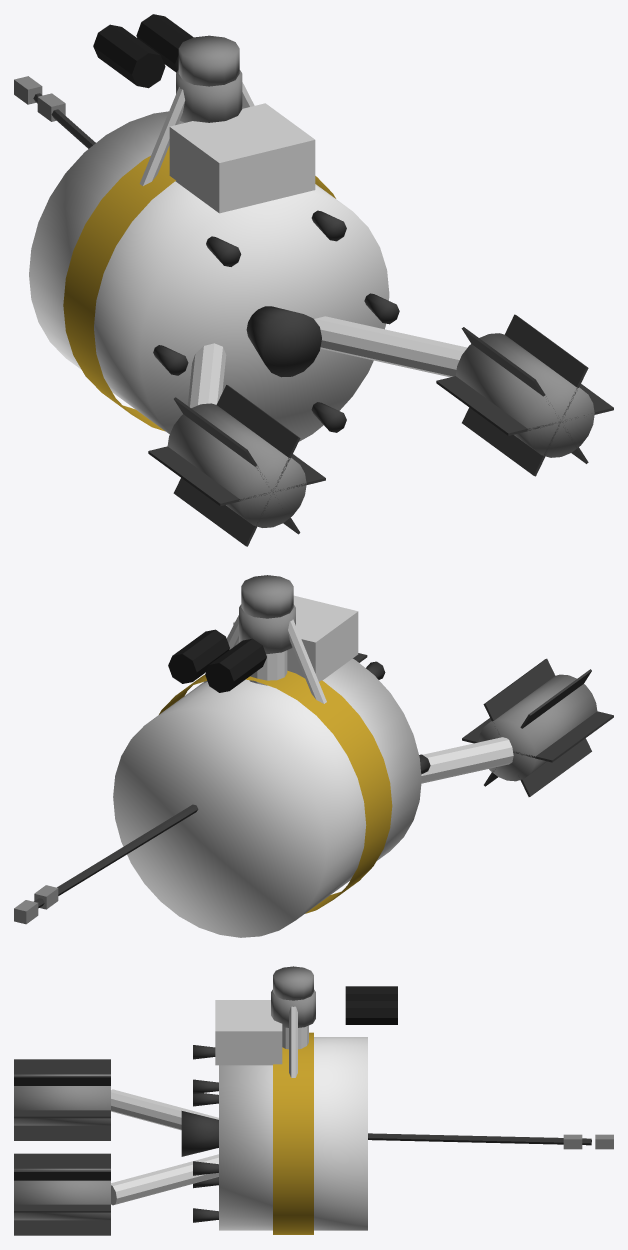
The model's file is Probe_RTG_Body.glb.
The picture shows the model from 3 angles, top to bottom: view 1: azimuth 30°, elevation 25°; view 2: azimuth 150°, elevation 25°; view 3: azimuth 270°, elevation 25°; orthographic projection. The views are drawn at different scales.
Visible parts, largest first — view 1: Probe_Bus, Probe_Housing, Probe_RTG_R, Probe_RTG_L, Probe_Bus_MLI, Probe_Boom_R, Probe_RTG_Fin_R2, Probe_RTG_Fin_L2, Probe_Thruster, Probe_Mast_Hub, Probe_Cam_Narrow, Probe_Scan_Platform (+7 smaller); view 2: Probe_Bus, Probe_Bus_MLI, Probe_RTG_L, Probe_Housing, Probe_RTG_Fin_L2, Probe_Boom_L, Probe_Mast_Hub, Probe_Cam_Narrow, Probe_Cam_Wide, Probe_Scan_Platform, Probe_RTG_Fin_L1, Probe_Mag_Boom (+3 smaller); view 3: Probe_Bus, Probe_Bus_MLI, Probe_Housing, Probe_RTG_R, Probe_RTG_L, Probe_RTG_Fin_L3, Probe_RTG_Fin_R3, Probe_Boom_R, Probe_Boom_L, Probe_Mag_Boom, Probe_Thruster, Probe_Cam_Wide (+9 smaller).
Part boxes in pixels (x1,y1,x2,y2): Probe_Bus: (29,111,389,441); Probe_Housing: (169,103,315,213); Probe_RTG_R: (455,333,594,457); Probe_RTG_L: (167,403,306,527); Probe_Bus_MLI: (63,146,335,431); Probe_Boom_R: (314,316,467,377); Probe_RTG_Fin_R2: (462,314,588,476); Probe_RTG_Fin_L2: (173,385,300,546); Probe_Thruster: (246,306,321,377); Probe_Mast_Hub: (178,35,239,86); Probe_Cam_Narrow: (93,24,165,88); Probe_Scan_Platform: (176,70,242,122); Probe_Bus: (113,658,421,937); Probe_Bus_MLI: (159,670,392,913); Probe_RTG_L: (478,674,597,781); Probe_Housing: (233,595,358,681); Probe_RTG_Fin_L2: (483,658,591,796); Probe_Boom_L: (421,737,513,783); Probe_Mast_Hub: (241,575,293,618); Probe_Cam_Narrow: (205,638,266,692); Probe_Cam_Wide: (168,629,229,683); Probe_Scan_Platform: (239,604,295,653); Probe_RTG_Fin_L1: (462,711,613,762); Probe_Mag_Boom: (34,804,198,908); Probe_Bus: (219,1037,367,1230); Probe_Bus_MLI: (273,1032,313,1234); Probe_Housing: (215,1000,282,1065); Probe_RTG_R: (14,1168,110,1220); Probe_RTG_L: (14,1074,110,1125); Probe_RTG_Fin_L3: (14,1059,110,1140); Probe_RTG_Fin_R3: (14,1153,110,1235); Probe_Boom_R: (111,1154,218,1205); Probe_Boom_L: (111,1089,218,1130); Probe_Mag_Boom: (368,1133,591,1145); Probe_Thruster: (181,1111,218,1156); Probe_Cam_Wide: (345,1000,397,1024).
Bounding box in the file's own units: 0.82 × 0.742 × 1.61.
